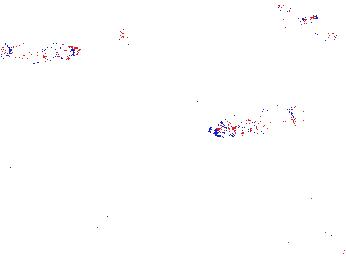X-ray fish: (117, 50, 149, 73)
red belly glassfish: (313, 25, 340, 43), (271, 1, 306, 14), (289, 13, 321, 27)
redtail glassfish: (207, 102, 296, 140), (1, 39, 83, 63), (114, 27, 136, 55)
